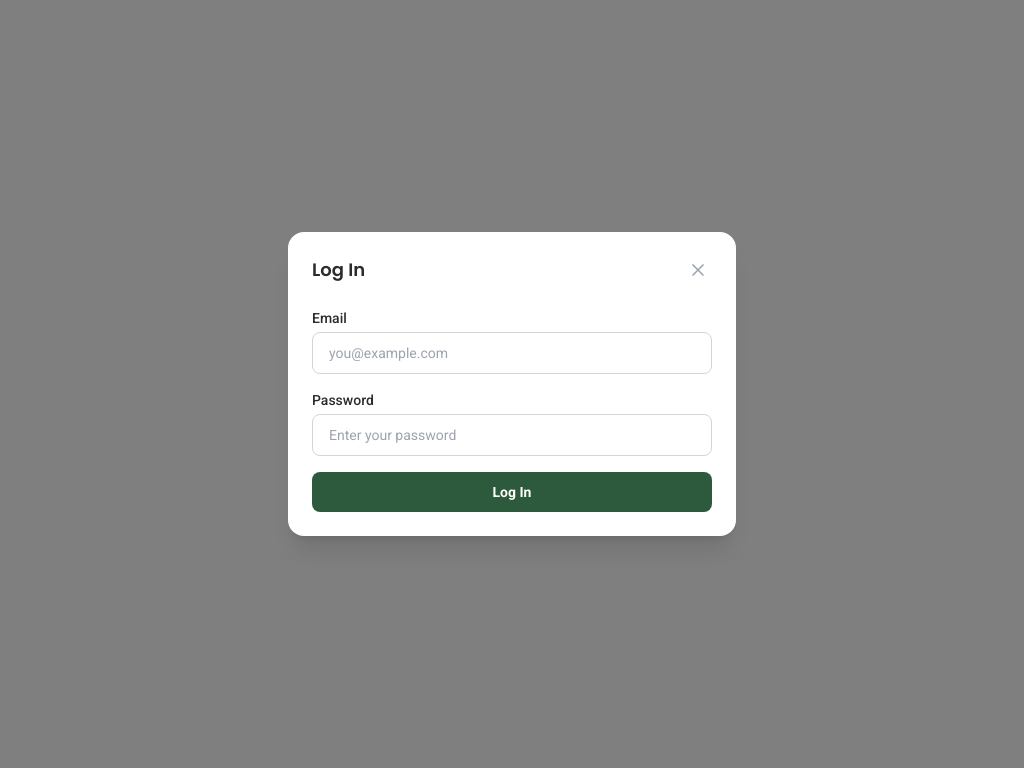
LoginModal › shows validation error for short password with empty email
Type "12345" into the password field labelled "Password".
click(512, 435); type("12345")  # box left=312, top=414, right=712, bottom=456
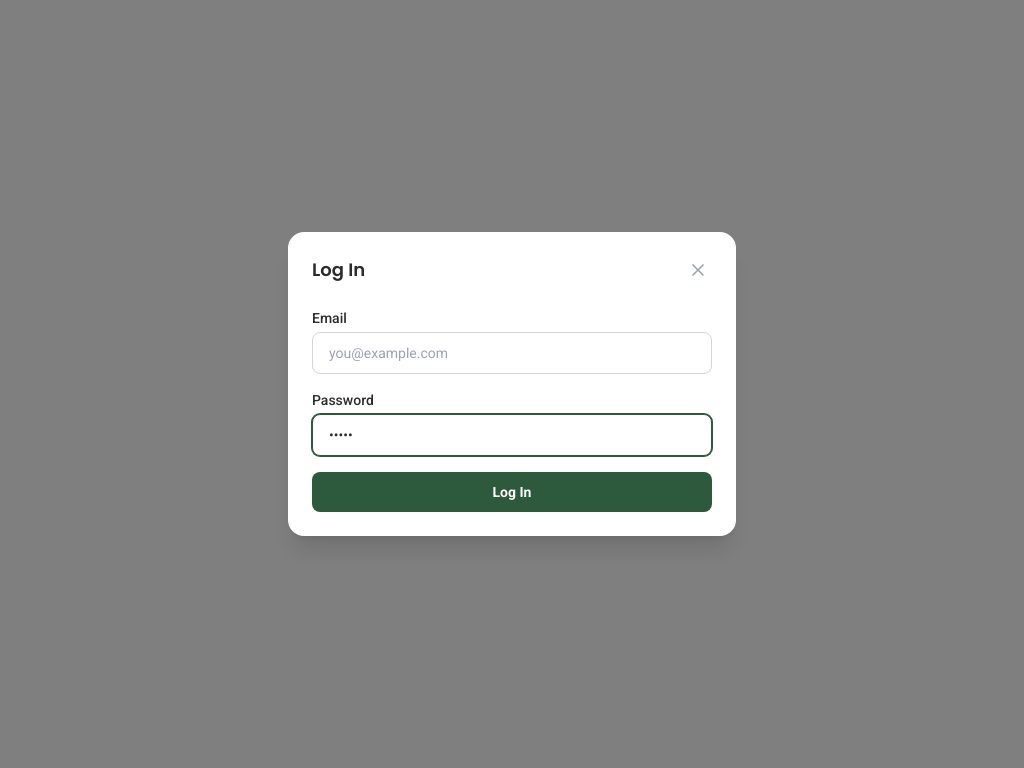
Click the button "Log In".
click(512, 492)  # box left=312, top=472, right=712, bottom=512
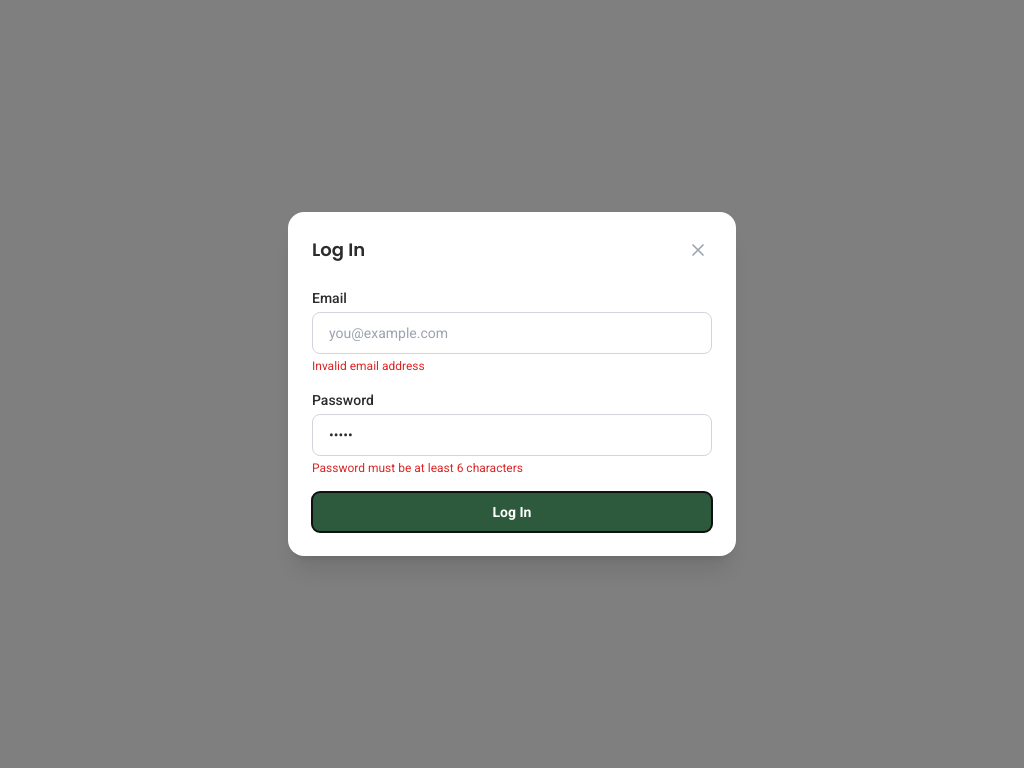
Check: the text "Password must be at least 6 characters" is shown, box left=312, top=461, right=523, bottom=475
